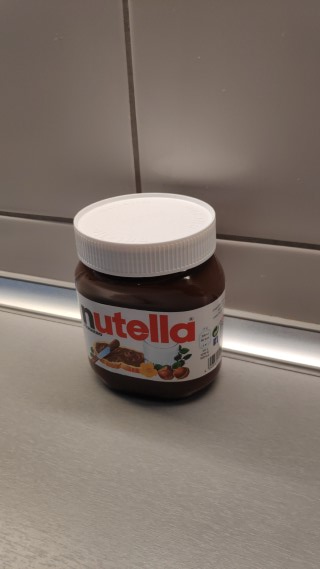nutella: (71, 188, 228, 409)
